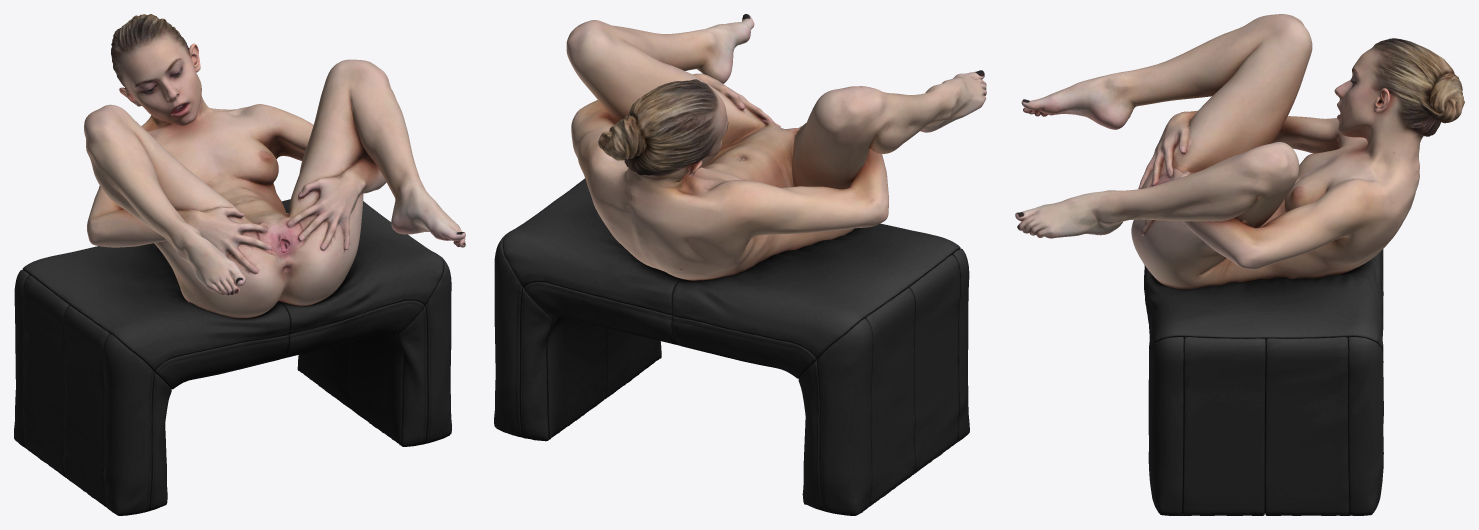
The picture shows the model from 3 angles, left to right: view 1: azimuth 30°, elevation 25°; view 2: azimuth 150°, elevation 25°; view 3: azimuth 270°, elevation 25°; orthographic projection. The views are drawn at different scales.
Visible parts, largest first — view 1: 10sofa_0, 10_LOD2_0; view 2: 10sofa_0, 10_LOD2_0; view 3: 10_LOD2_0, 10sofa_0.
Boxes of the visible parts, <box> form: 10sofa_0: <box>14,199,451,515</box>; 10_LOD2_0: <box>84,14,465,318</box>; 10sofa_0: <box>494,178,969,515</box>; 10_LOD2_0: <box>566,14,986,280</box>; 10_LOD2_0: <box>1015,14,1464,289</box>; 10sofa_0: <box>1144,249,1383,515</box>.
Size of the model in its own units: 3.61 by 3.77 by 4.03.
Materials: 2 (2 with a texture image).
